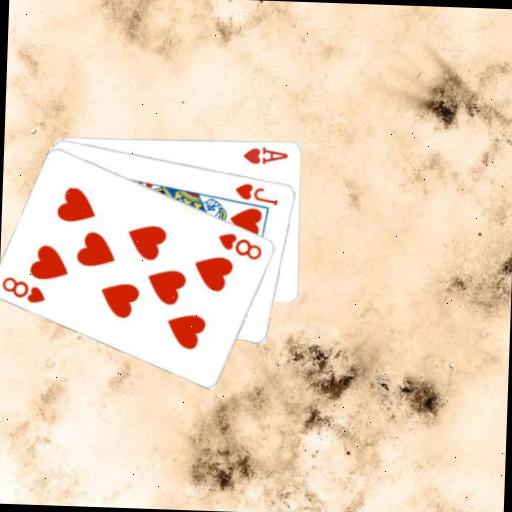8H: (215, 229, 265, 261), (0, 272, 47, 305)
AH: (240, 143, 290, 167)
JH: (232, 179, 280, 207)
